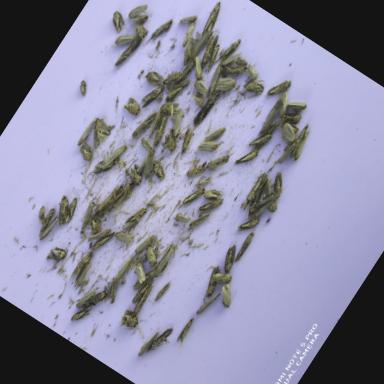pbw: (82, 110, 118, 150), (192, 26, 224, 70), (197, 60, 231, 101), (184, 24, 216, 66), (94, 174, 126, 216), (240, 181, 271, 224), (134, 142, 168, 181), (65, 245, 97, 286), (110, 32, 142, 71), (196, 1, 228, 40), (69, 254, 100, 294), (148, 240, 180, 278), (174, 30, 205, 68), (172, 119, 203, 156), (259, 108, 290, 145), (282, 124, 312, 162), (87, 151, 119, 186), (211, 278, 242, 314), (47, 190, 78, 226), (99, 137, 129, 174), (239, 171, 268, 209), (70, 278, 100, 314), (170, 312, 200, 348), (146, 322, 176, 358), (56, 192, 86, 228), (108, 250, 138, 286), (192, 285, 222, 321), (84, 219, 114, 255), (253, 100, 282, 136), (289, 127, 317, 164), (128, 108, 156, 145), (195, 188, 225, 222), (213, 243, 243, 277), (128, 284, 156, 320), (136, 80, 166, 113), (232, 209, 262, 242), (72, 114, 100, 149), (202, 40, 230, 75), (230, 231, 258, 266), (120, 199, 149, 232), (174, 15, 201, 50), (147, 13, 174, 48), (208, 262, 239, 292), (146, 112, 174, 145), (195, 268, 224, 299), (165, 105, 193, 137), (128, 276, 156, 308), (38, 210, 64, 244), (73, 200, 99, 234), (255, 188, 284, 218), (201, 149, 230, 179), (178, 181, 206, 212), (268, 167, 296, 198), (272, 137, 298, 170), (134, 327, 160, 360), (70, 140, 98, 170), (265, 72, 292, 102), (126, 16, 154, 44), (159, 62, 187, 90), (204, 116, 230, 146), (132, 228, 158, 258), (163, 75, 189, 105), (218, 32, 243, 63), (43, 240, 70, 268), (238, 58, 265, 86), (104, 5, 130, 34), (247, 124, 274, 151), (108, 28, 134, 56), (234, 143, 260, 171), (68, 300, 93, 329), (34, 206, 56, 238), (110, 223, 137, 249), (116, 308, 142, 335), (240, 73, 267, 99), (210, 73, 238, 98), (156, 96, 182, 122), (126, 259, 151, 286), (186, 209, 210, 237), (200, 181, 225, 207), (274, 122, 300, 146), (176, 4, 200, 30), (142, 64, 166, 90), (120, 94, 144, 119), (190, 74, 214, 99), (29, 202, 52, 228), (184, 56, 206, 82), (126, 8, 150, 31), (198, 134, 222, 156), (184, 158, 206, 182), (170, 206, 192, 230), (282, 97, 306, 118), (230, 50, 252, 72), (98, 284, 120, 306), (141, 248, 162, 270), (126, 0, 149, 20), (152, 280, 170, 304), (134, 134, 155, 154), (72, 76, 92, 97)
